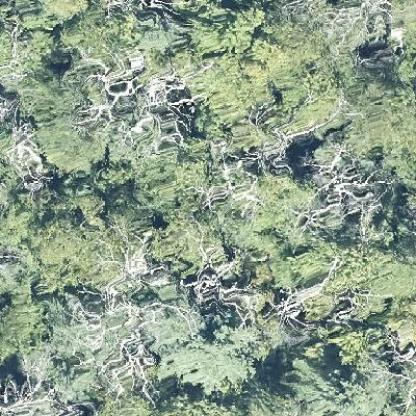tree-top: (344, 60, 415, 181), (251, 357, 393, 415), (158, 331, 257, 393), (0, 296, 49, 363)
